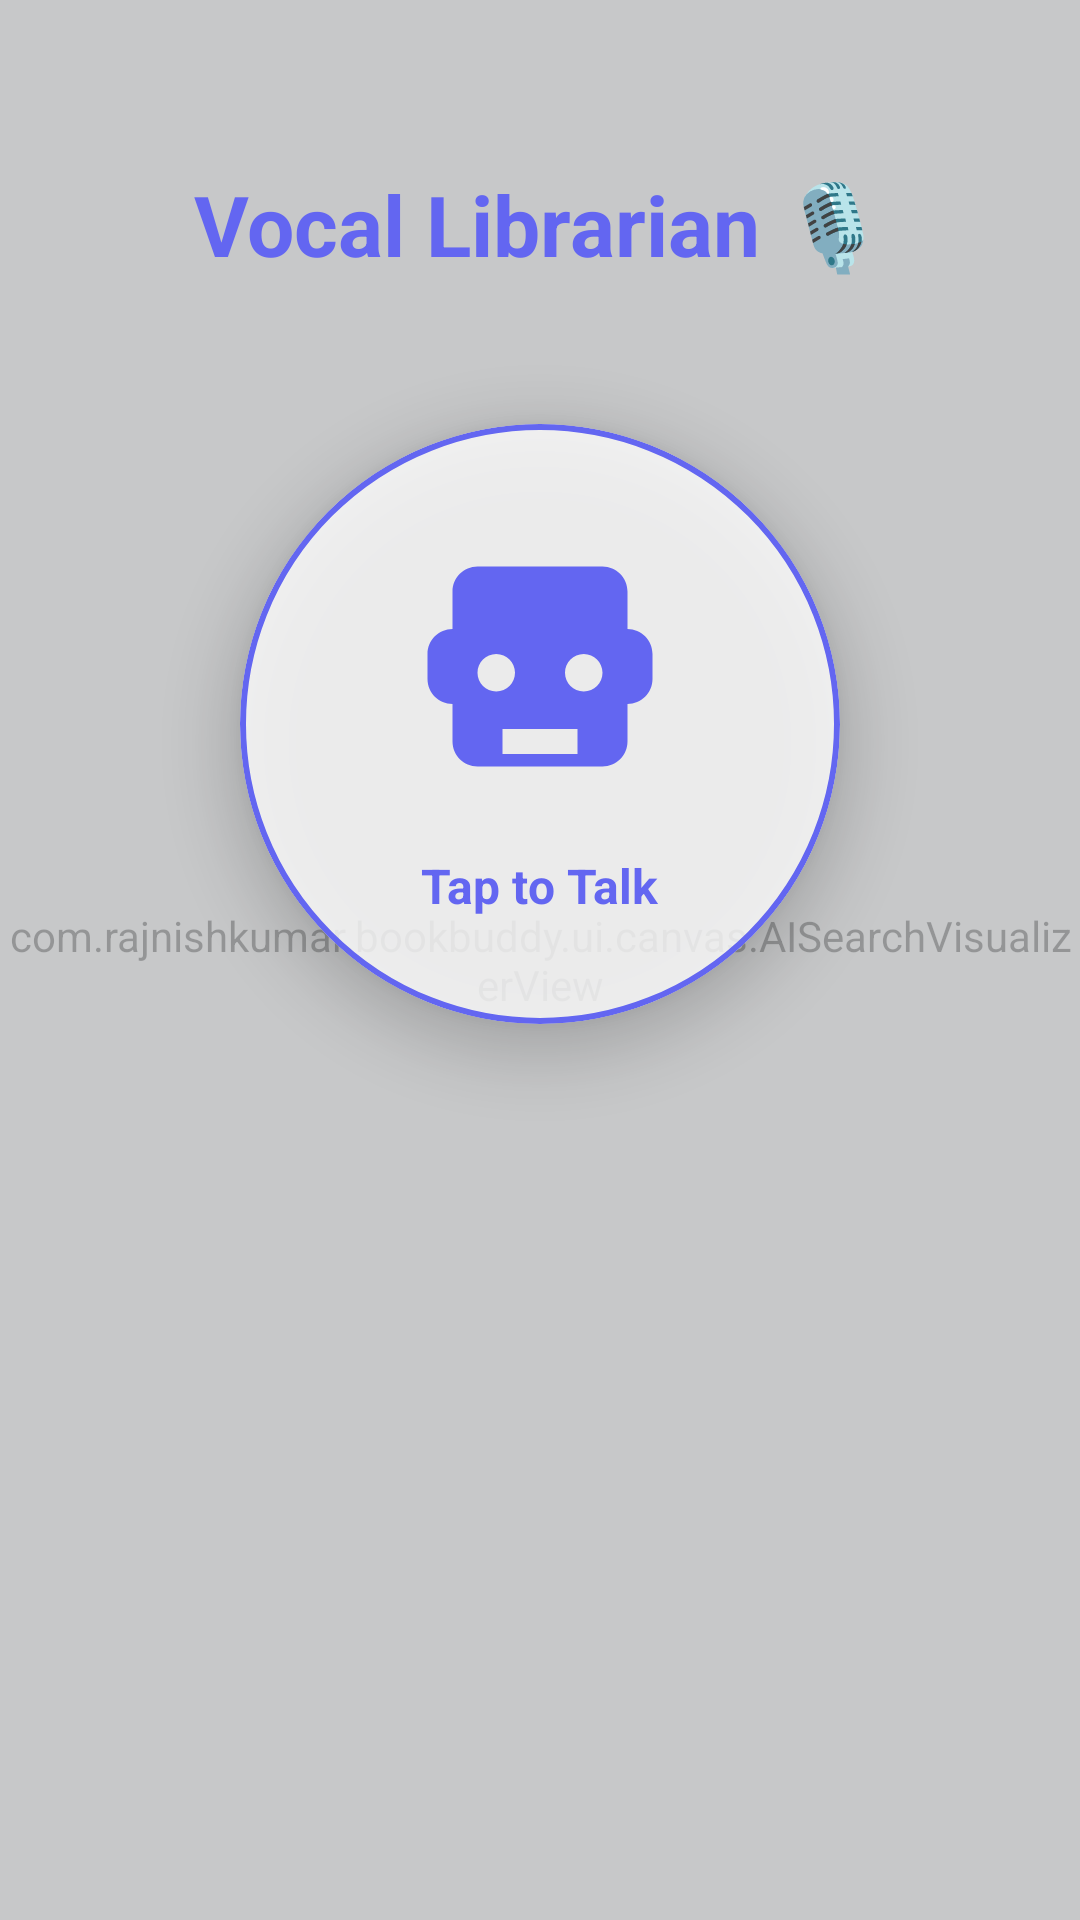

Screen size 1080 × 1920. Icon name, then its box in pixels as (x1, y1, x2, y2):
robo: (427, 566, 653, 767)
